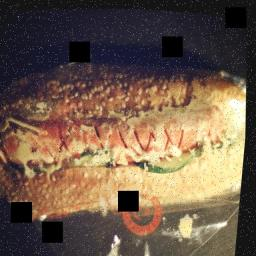hotdog: (0, 48, 253, 222)
